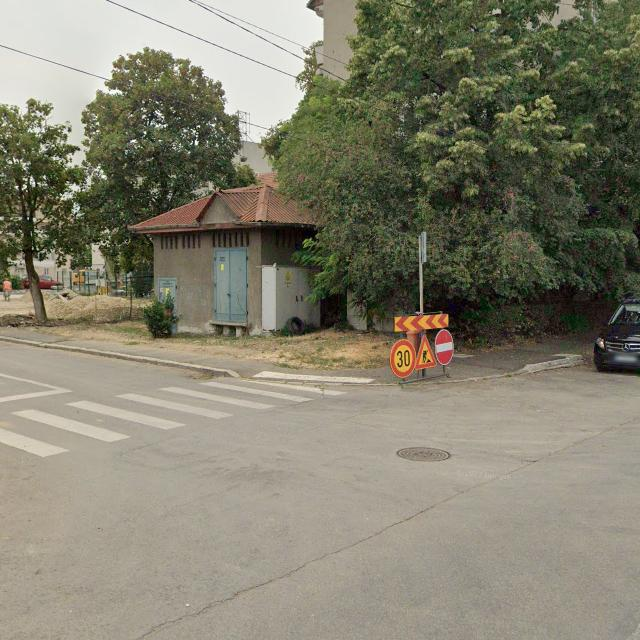forb_ahead: (434, 329, 454, 365)
forb_speed_over_30: (389, 339, 416, 378)
warn_construction: (414, 336, 436, 370)
